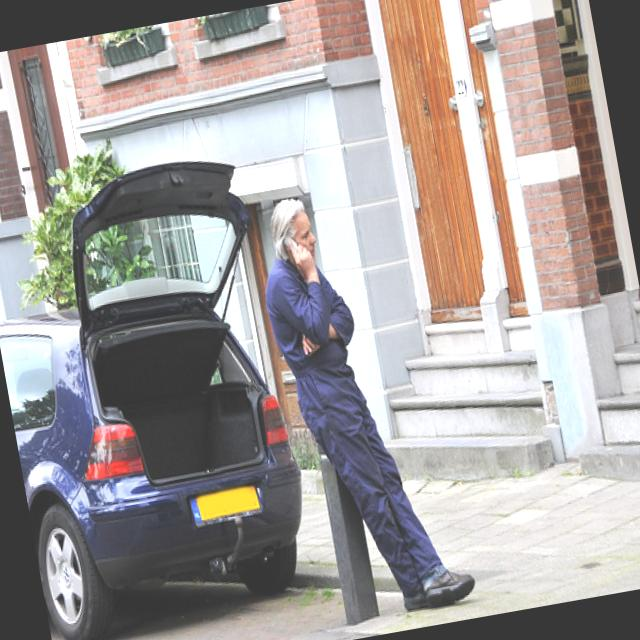Vehicle: (0, 144, 324, 640)
